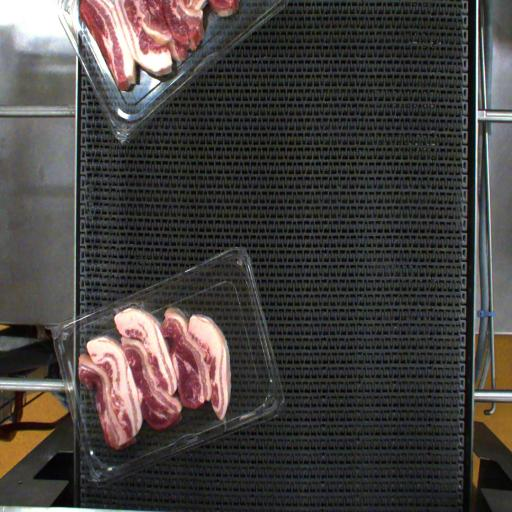packaging-error: (104, 288, 152, 317)
